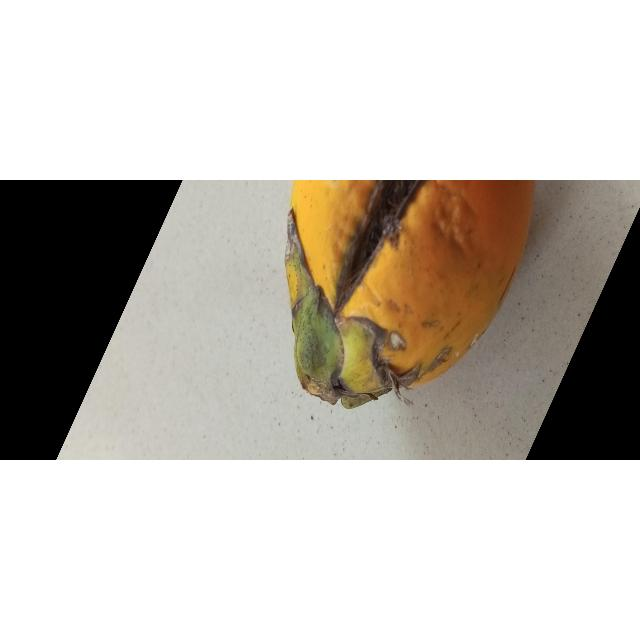damaged: (285, 180, 536, 411)
